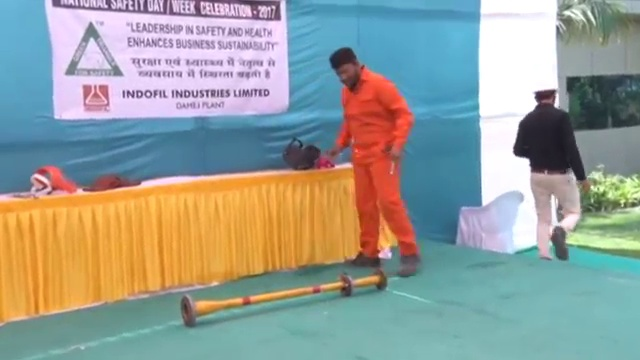helmet: (528, 74, 560, 95)
helmet_off: (327, 48, 363, 90)
helmet_on: (527, 73, 561, 110)
person: (324, 48, 421, 276), (513, 74, 589, 263)
